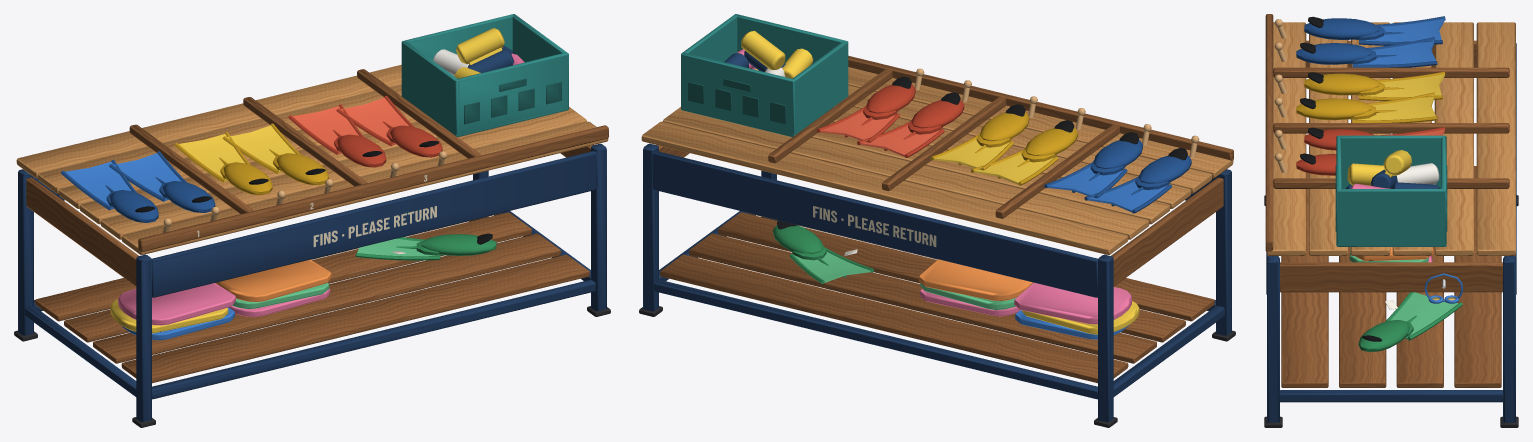
File: fins_rack.glb
The picture shows the model from 3 angles, left to right: view 1: azimuth 30°, elevation 25°; view 2: azimuth 150°, elevation 25°; view 3: azimuth 270°, elevation 25°; orthographic projection.
Parts seen in each view (by area): view 1: FinsRackMesh, Fins_3, Fins_1, Fins_2; view 2: FinsRackMesh, Fins_2, Fins_3, Fins_1; view 3: FinsRackMesh, Fins_1, Fins_2, Fins_3.
Boxes of the visible parts, box(x1,y1,x2,y2) form: FinsRackMesh: box(14, 14, 610, 427); Fins_3: box(288, 95, 442, 167); Fins_1: box(61, 151, 215, 222); Fins_2: box(174, 123, 328, 195); FinsRackMesh: box(639, 14, 1235, 427); Fins_2: box(930, 104, 1077, 185); Fins_3: box(816, 76, 964, 157); Fins_1: box(1044, 132, 1191, 213); FinsRackMesh: box(1264, 14, 1518, 427); Fins_1: box(1296, 16, 1445, 67); Fins_2: box(1296, 71, 1445, 122); Fins_3: box(1296, 127, 1445, 175).
Size of the model in its own units: 2.12 by 1.05 by 0.97.
32 materials, 3 textured.
